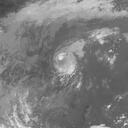cyclone: (49, 44, 81, 82)
